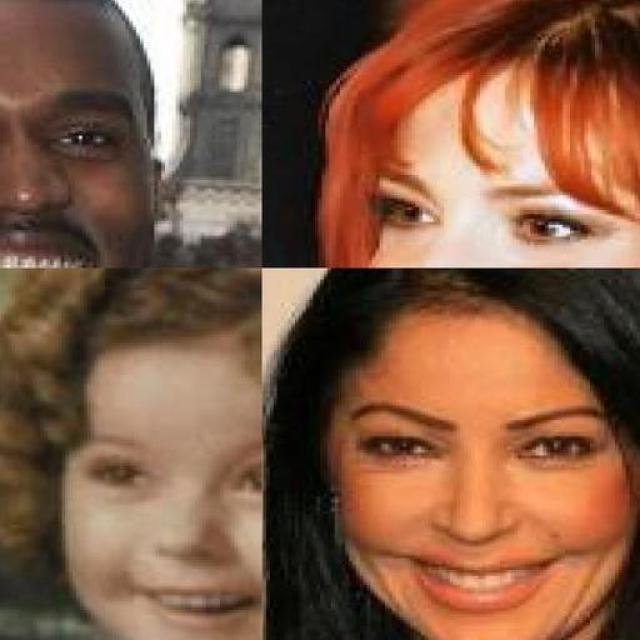bareface: (341, 310, 627, 640)
